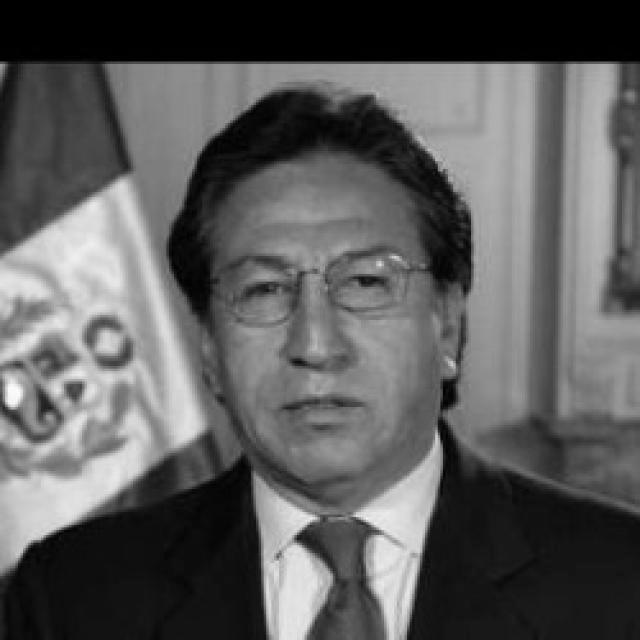real: (210, 154, 442, 480), (226, 248, 414, 318)
